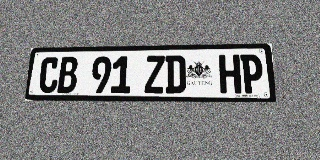1: (111, 56, 131, 93)
9: (91, 56, 112, 93)
B: (57, 57, 78, 93)
C: (38, 57, 60, 93)
D: (165, 55, 186, 93)
H: (219, 54, 241, 93)
P: (240, 54, 264, 93)
Z: (144, 56, 165, 93)
